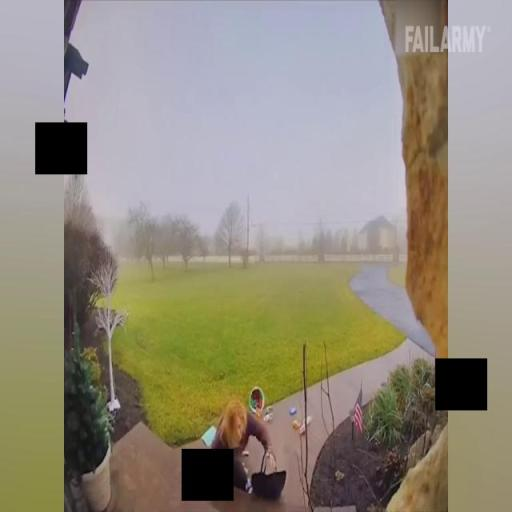Fall: (208, 398, 274, 496)
